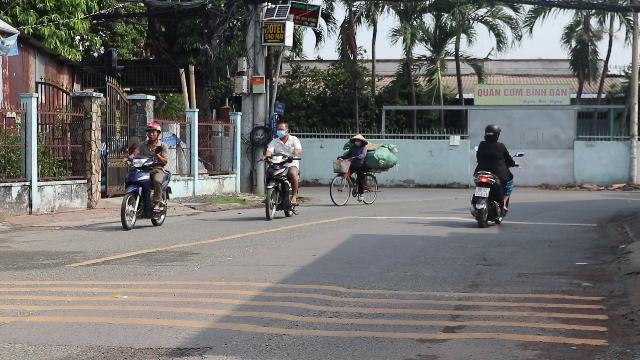helmet: (144, 122, 160, 142), (482, 124, 500, 140)
licenseplate: (474, 187, 490, 197)
motorcyclist: (117, 120, 173, 230), (468, 123, 514, 227), (259, 122, 303, 220)
nohelmet: (275, 122, 289, 139)
